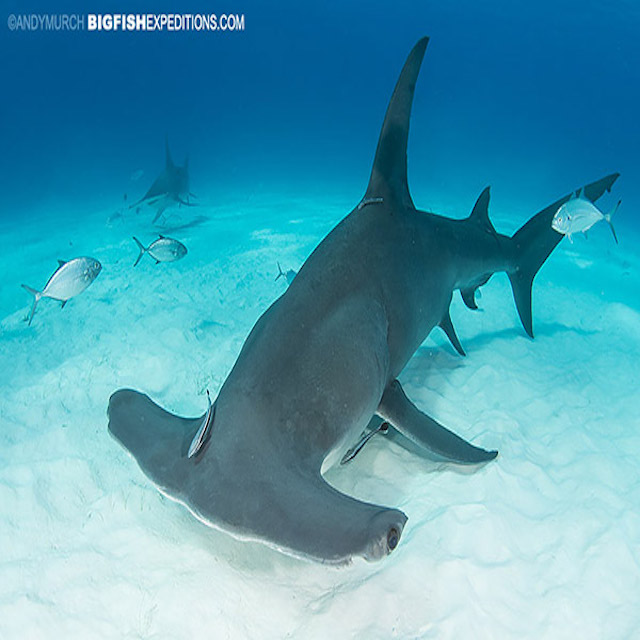hammerhead: (97, 365, 436, 585)
